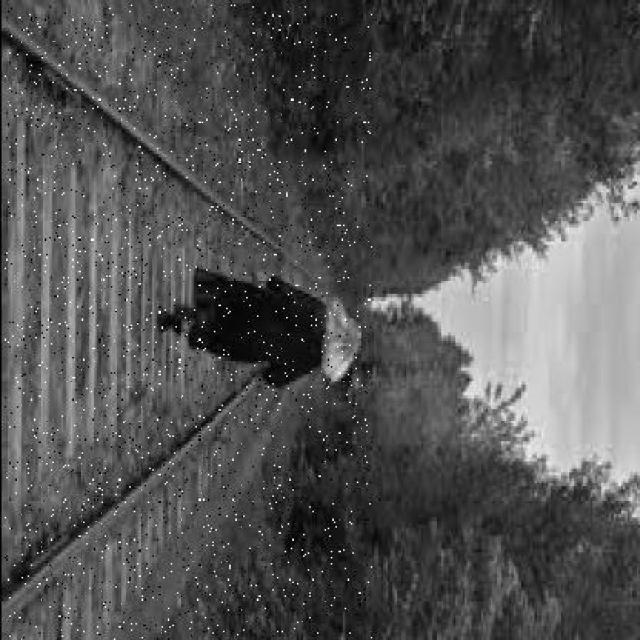danger: (160, 282, 382, 384)
rail: (3, 5, 370, 640)
